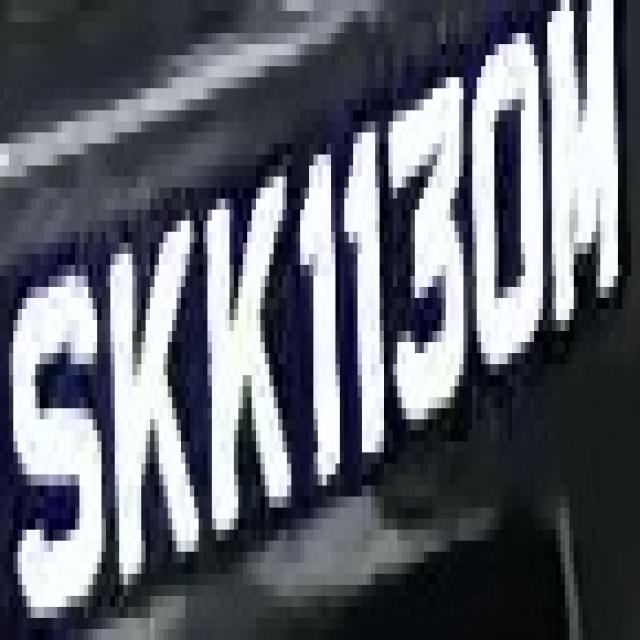0: (459, 44, 556, 419)
1: (282, 110, 344, 508), (336, 66, 388, 475)
3: (380, 78, 472, 442)
K: (186, 143, 292, 563), (97, 176, 199, 596)
M: (547, 11, 627, 353)
S: (5, 243, 120, 596)
